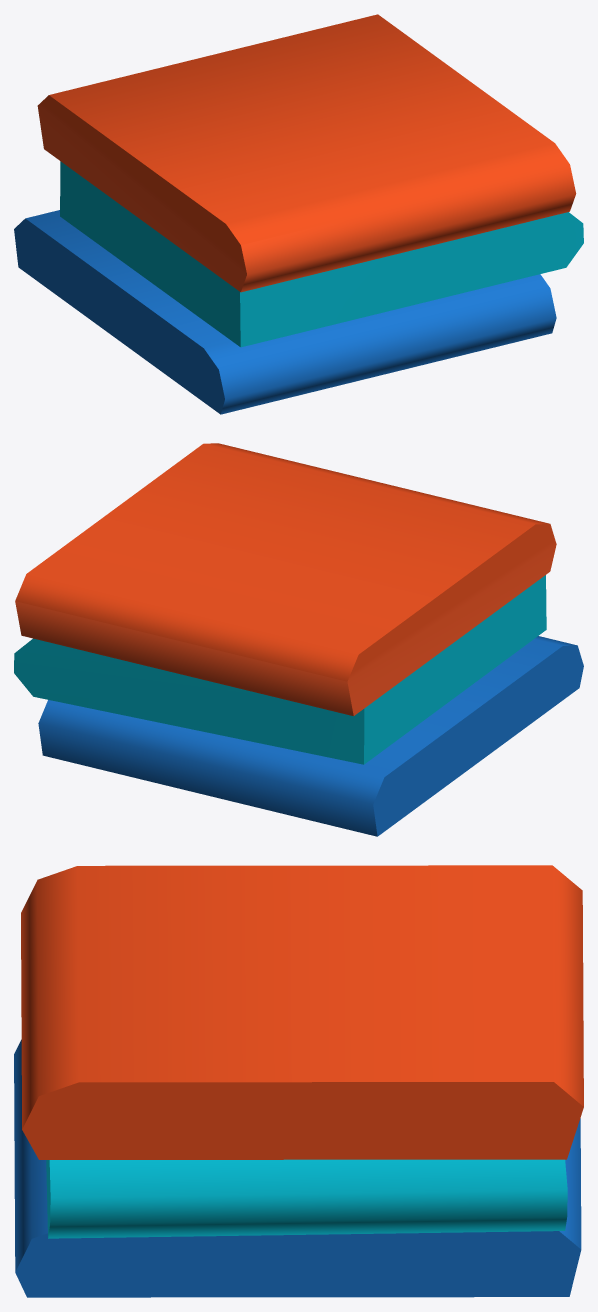
File: shop_040.fbx
3 renders of one model, top to bottom at view 1: azimuth 30°, elevation 25°; view 2: azimuth 150°, elevation 25°; view 3: azimuth 270°, elevation 25°, orthographic. The views are drawn at different scales.
Parts seen in each view (by area): view 1: shop_040; view 2: shop_040; view 3: shop_040.
Boxes of the visible parts, x1,y1,x2,y2 form: shop_040: (14,14,583,414); shop_040: (14,443,583,836); shop_040: (14,865,583,1297).
Bounding box in the file's own units: 41.11 × 40.38 × 17.96.
